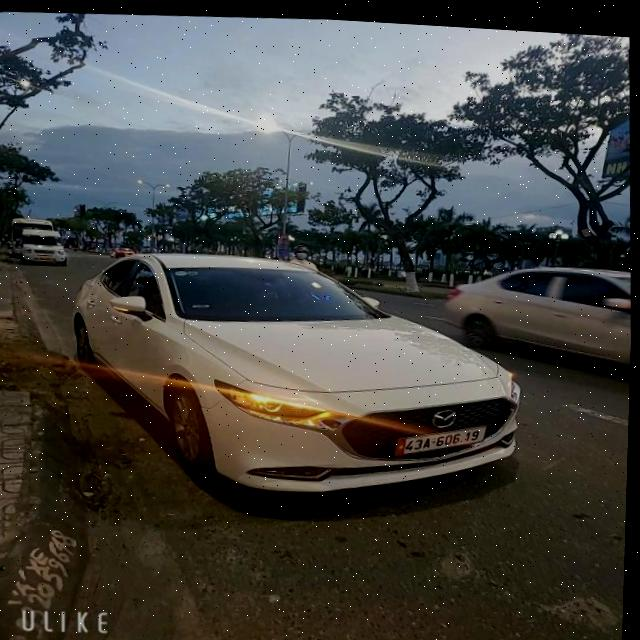car: (58, 228, 535, 529), (431, 254, 633, 384), (11, 213, 70, 270)
plate: (394, 422, 485, 462)
